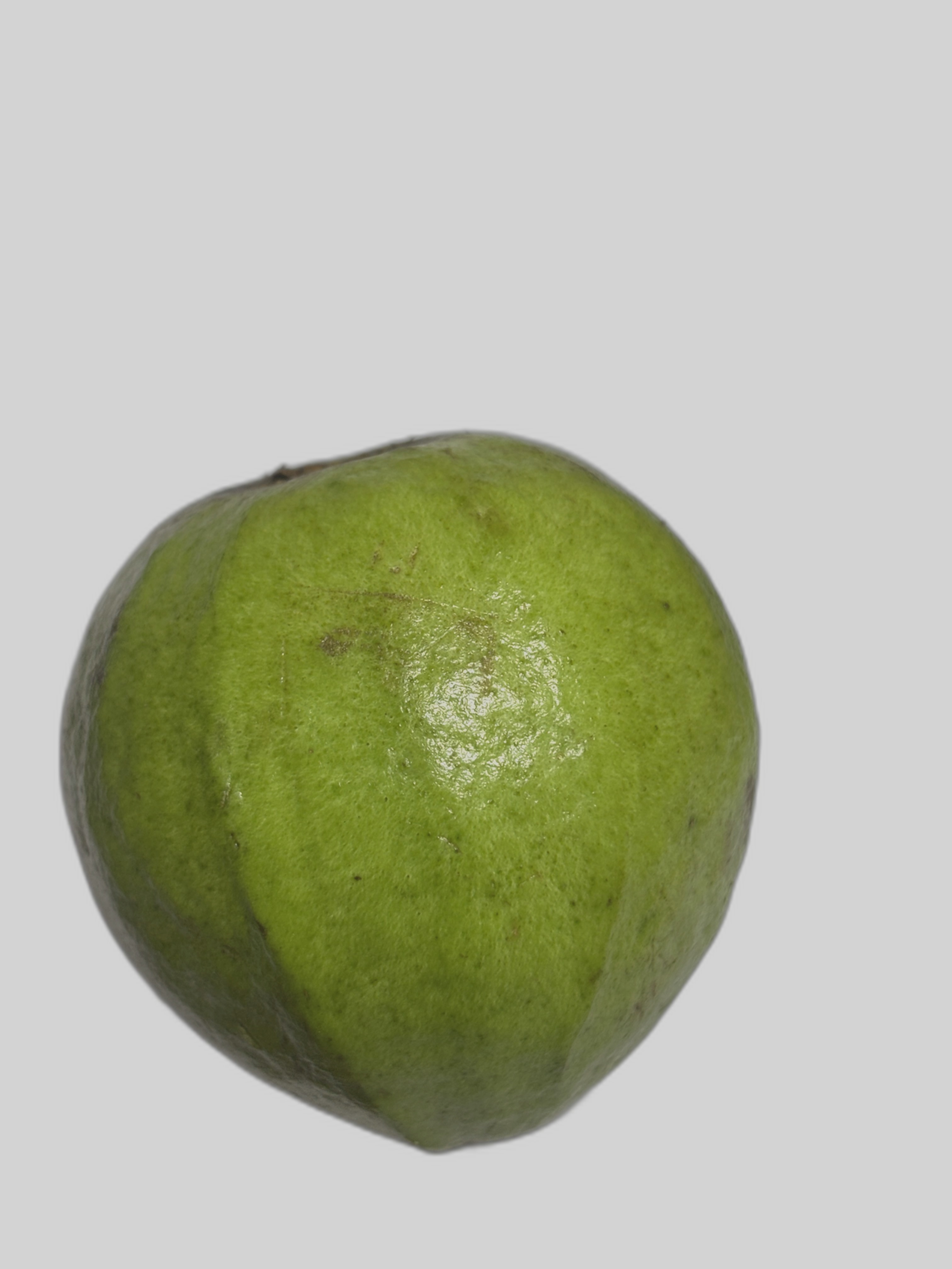guava: (114, 0, 704, 1096)
